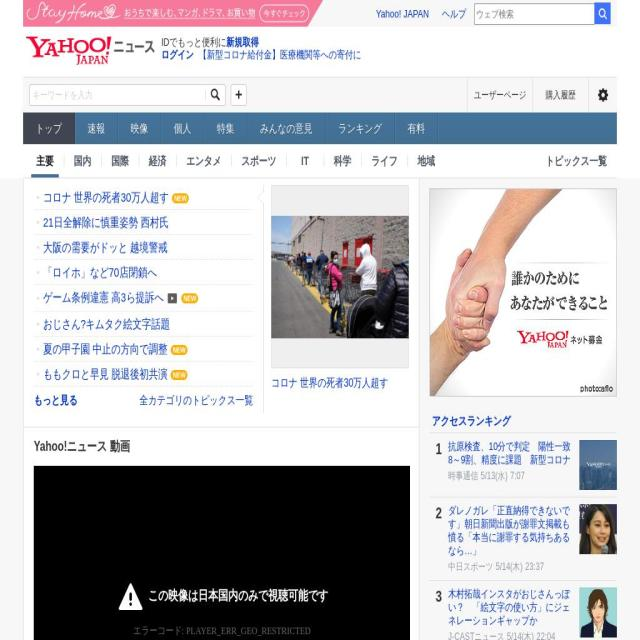button: (271, 185, 409, 391), (429, 498, 617, 580), (429, 433, 617, 497), (429, 581, 617, 640), (23, 0, 323, 27), (34, 285, 253, 312), (34, 336, 253, 362), (34, 185, 253, 209), (34, 210, 253, 234), (34, 235, 253, 259), (34, 260, 253, 284), (34, 312, 253, 336), (34, 362, 253, 386), (139, 387, 253, 414), (247, 113, 325, 144), (326, 113, 394, 144), (24, 113, 74, 144), (118, 113, 161, 144), (161, 113, 204, 144), (204, 113, 247, 144), (75, 113, 117, 144), (395, 113, 437, 144), (34, 387, 78, 414), (588, 78, 617, 112), (31, 144, 59, 178), (594, 3, 610, 24), (232, 85, 246, 105)
field: (29, 84, 206, 106), (474, 3, 594, 25)
heading: (34, 438, 408, 457), (432, 414, 511, 428)
iframe: (34, 466, 410, 640), (429, 188, 617, 397)
image: (271, 185, 409, 368), (26, 37, 155, 65), (579, 440, 617, 490), (579, 504, 617, 554), (579, 588, 617, 638), (206, 84, 225, 104), (171, 193, 189, 204), (171, 345, 188, 356), (171, 370, 188, 381), (181, 294, 198, 304)
link: (448, 504, 574, 561), (448, 587, 574, 631), (448, 440, 574, 470), (199, 48, 361, 61), (546, 144, 606, 178), (473, 78, 526, 112), (186, 144, 222, 178), (242, 144, 276, 178), (545, 78, 575, 112), (372, 144, 398, 178), (376, 7, 428, 20), (111, 144, 129, 178), (296, 144, 314, 178), (417, 144, 435, 178), (74, 144, 91, 178), (149, 144, 166, 178), (334, 144, 351, 178), (161, 48, 194, 61), (226, 36, 259, 48), (442, 7, 466, 20)
text: (43, 366, 168, 382), (323, 0, 485, 12), (43, 190, 169, 204), (43, 342, 168, 356), (43, 290, 164, 304), (271, 376, 388, 389), (429, 504, 448, 574), (429, 587, 448, 640), (429, 440, 448, 490), (162, 36, 226, 48), (448, 561, 493, 573), (448, 631, 504, 640), (448, 470, 478, 482), (481, 470, 508, 482), (496, 561, 523, 573), (507, 631, 534, 640), (525, 561, 544, 573), (510, 470, 525, 482), (536, 631, 556, 640)
